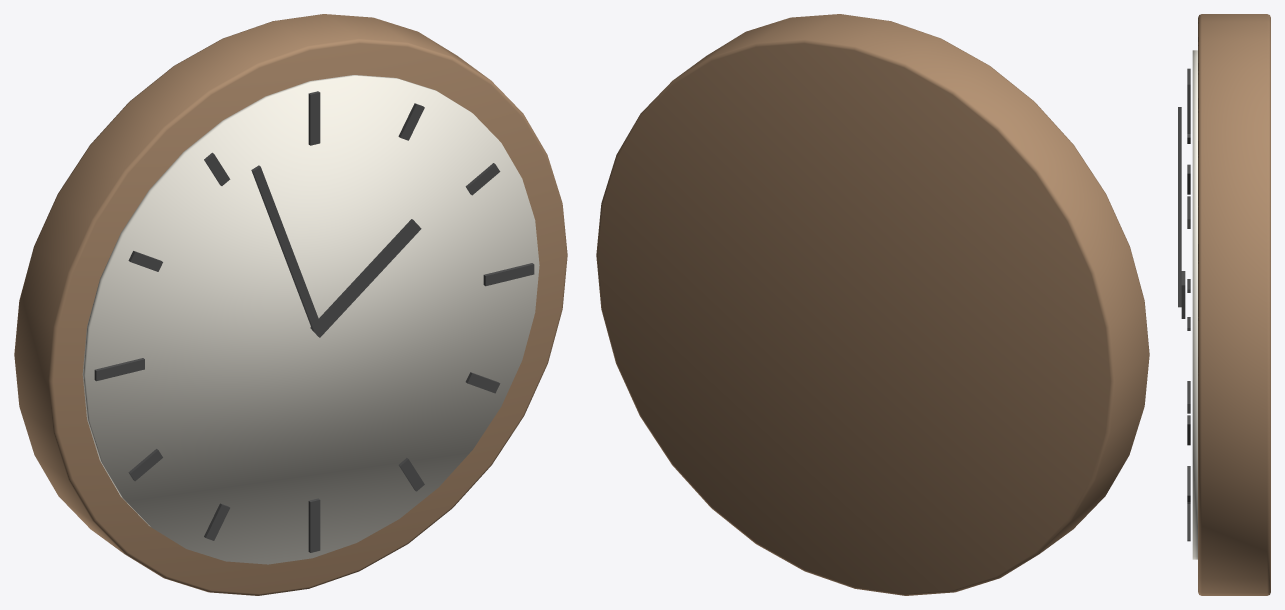
Rendered from v2_wall_clock.fbx.
3 views of the same model, side by side, from view 1: azimuth 30°, elevation 25°; view 2: azimuth 150°, elevation 25°; view 3: azimuth 270°, elevation 25° (orthographic). The views are drawn at different scales.
Visible parts, largest first — view 1: ClockFace, ClockRim, HandH, HandM; view 2: ClockRim; view 3: ClockRim, ClockFace, HandM, HandH, Tick, Tick.005.
Boxes of the visible parts, left/top/right/bottom form: ClockFace: left=82, top=75, right=539, bottom=564; ClockRim: left=14, top=14, right=567, bottom=595; HandH: left=310, top=219, right=421, bottom=337; HandM: left=251, top=165, right=321, bottom=331; ClockRim: left=596, top=14, right=1149, bottom=595; ClockRim: left=1198, top=14, right=1270, bottom=595; ClockFace: left=1192, top=50, right=1197, bottom=559; HandM: left=1178, top=107, right=1181, bottom=307; HandH: left=1181, top=271, right=1185, bottom=318; Tick: left=1187, top=80, right=1190, bottom=133; Tick.005: left=1187, top=504, right=1190, bottom=541.
Bounding box in the file's own units: 0.32 × 0.32 × 0.051.
